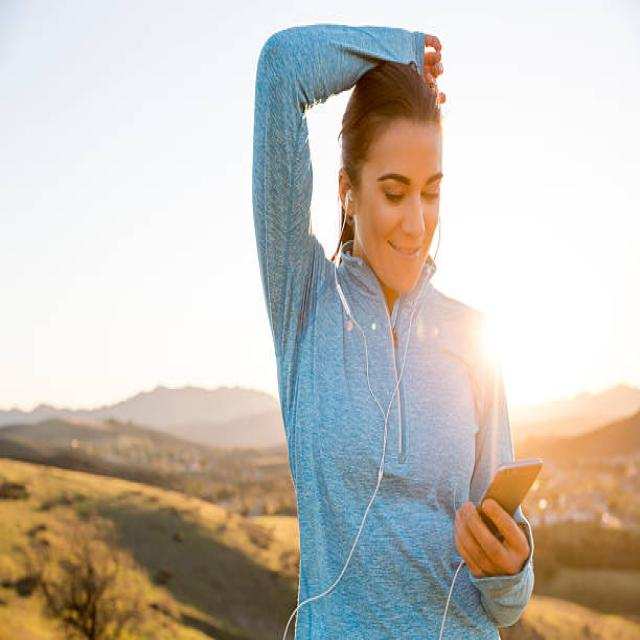Earphone: (333, 187, 443, 587)
